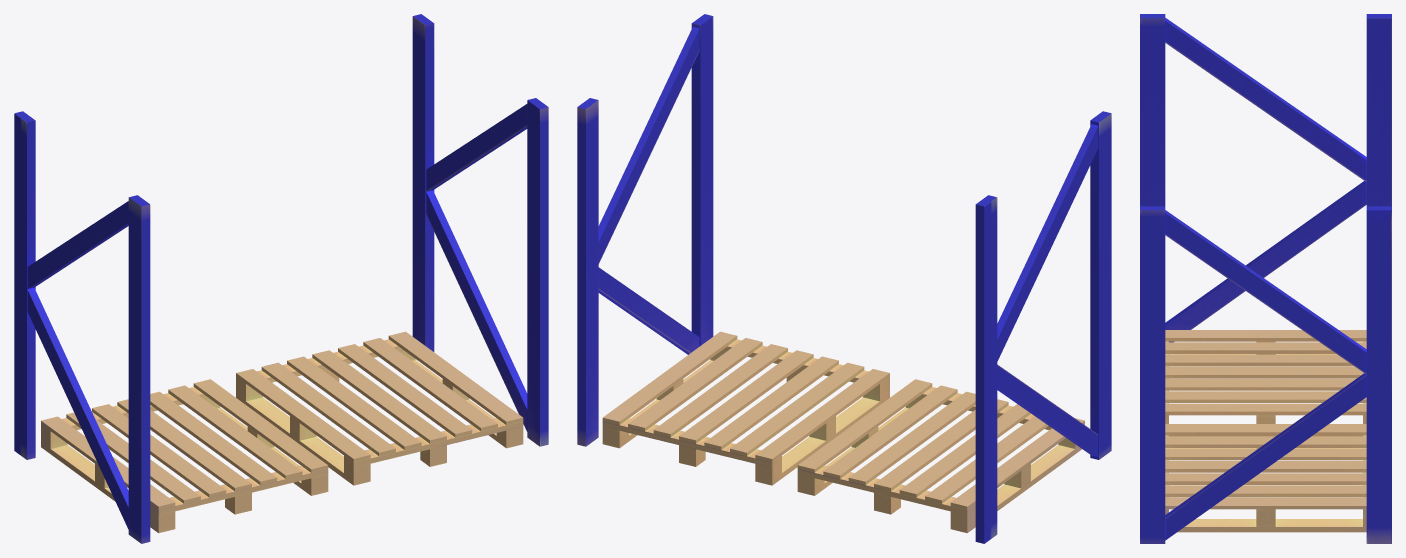
Rendered from Longarina_Junto_2pallets_chao_384.glb.
3 renders of one model, left to right at view 1: azimuth 30°, elevation 25°; view 2: azimuth 150°, elevation 25°; view 3: azimuth 270°, elevation 25°, orthographic.
Parts seen in each view (by area): view 1: Barras_Laterais; view 2: Barras_Laterais; view 3: Barras_Laterais.
Part boxes in pixels (x1,y1,x2,y2): Barras_Laterais: [14, 14, 548, 543]; Barras_Laterais: [577, 14, 1111, 543]; Barras_Laterais: [1140, 14, 1391, 543].
Bounding box in the file's own units: 2.4 × 1.9 × 1.3.
1 material, 1 textured.
